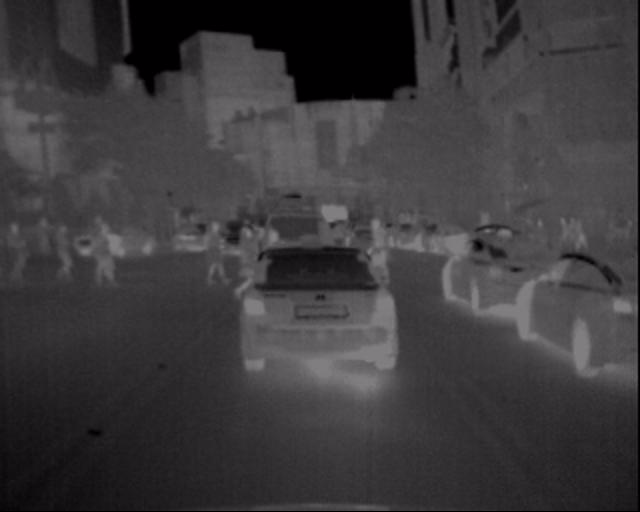person: (513, 186, 639, 248), (222, 218, 270, 309), (81, 214, 133, 297), (42, 213, 87, 297), (201, 213, 237, 293), (0, 218, 35, 295), (361, 210, 394, 288), (264, 222, 296, 298), (86, 218, 118, 290)
